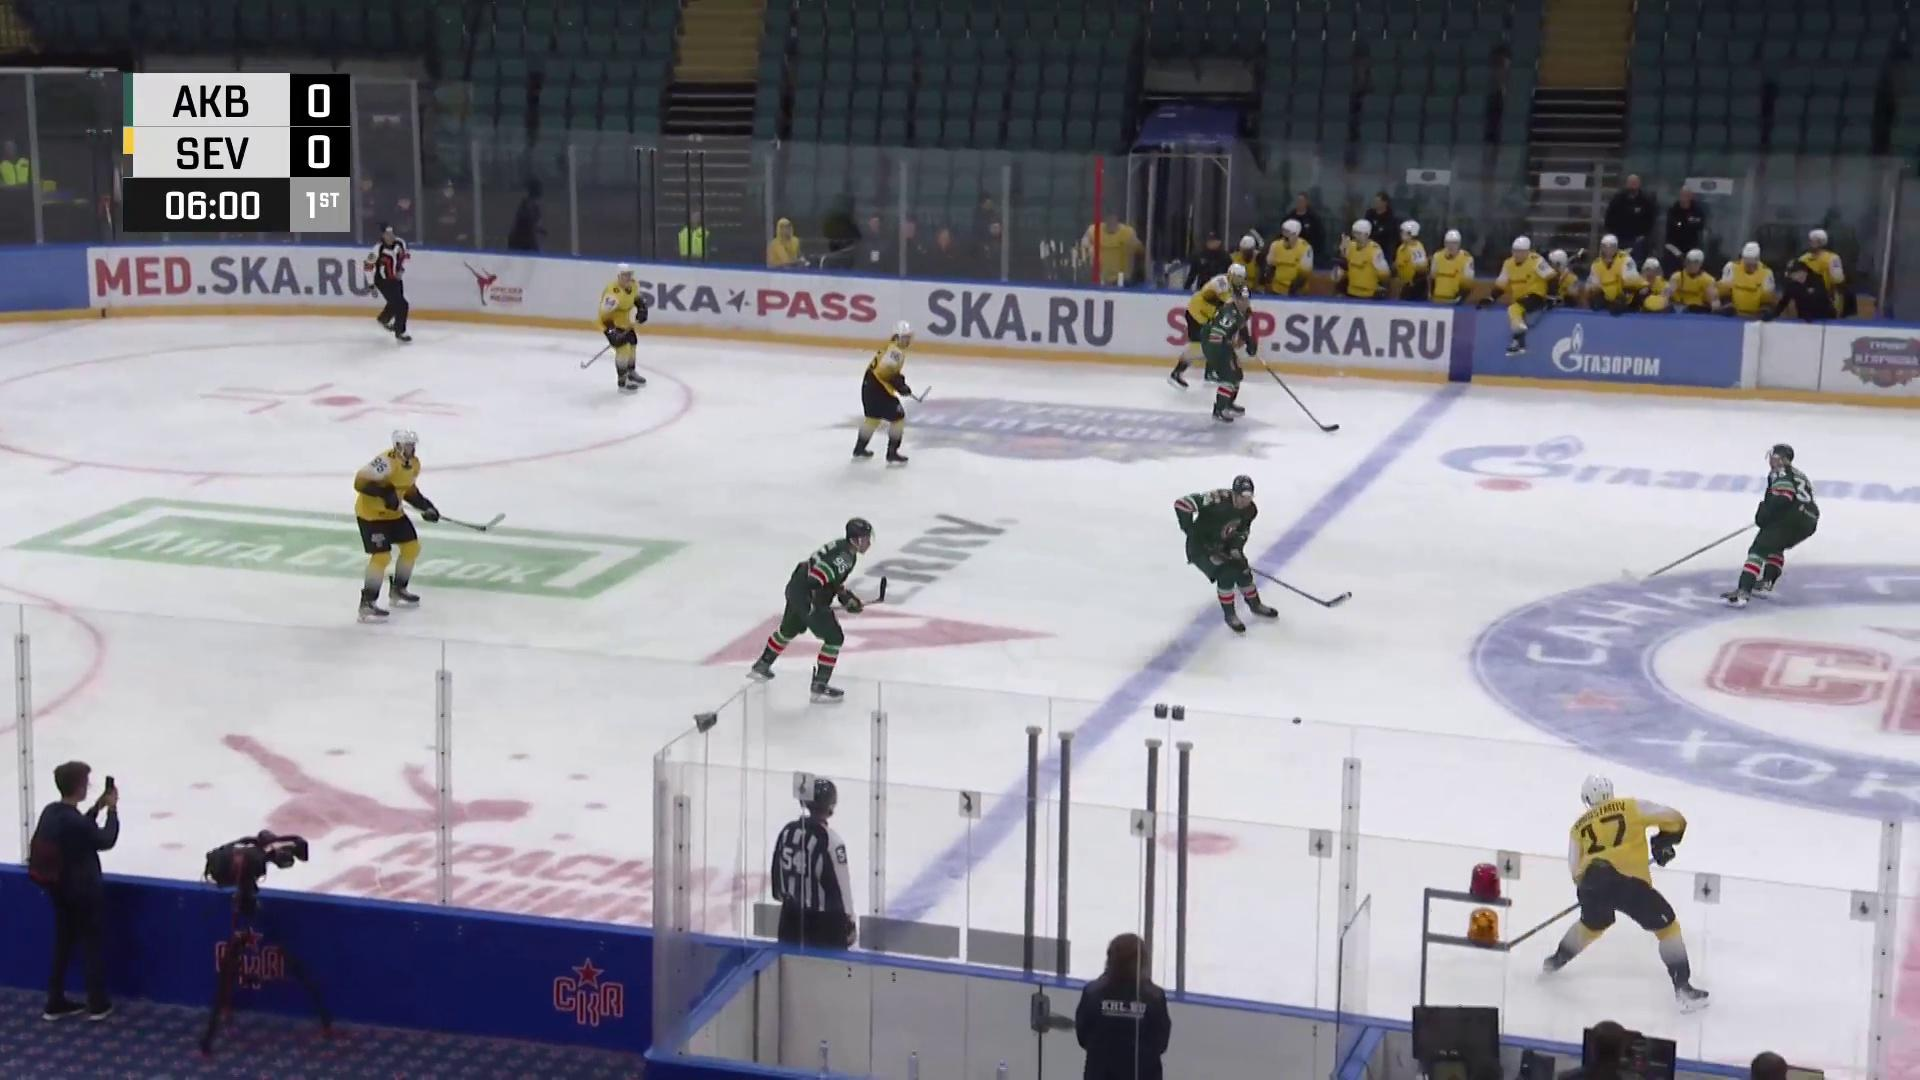ball: (1290, 716, 1302, 725)
